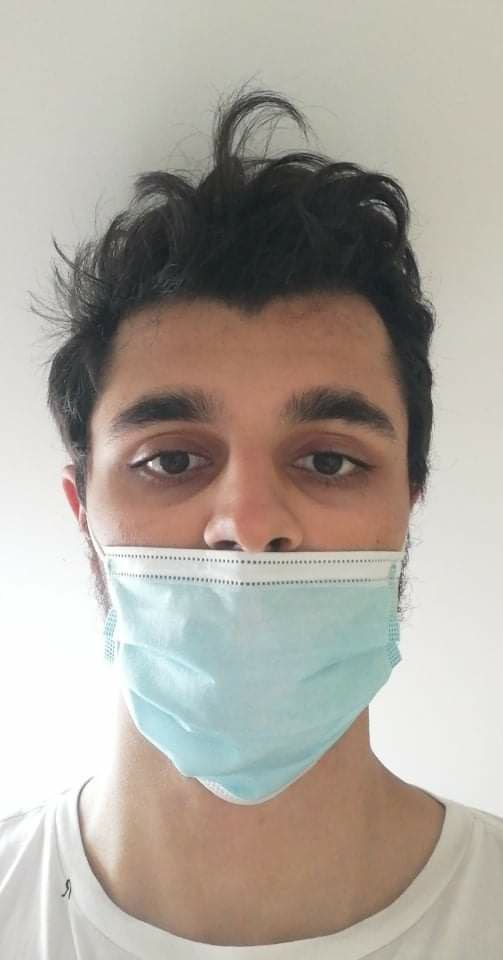with_incorrect_mask: (36, 260, 447, 781)
